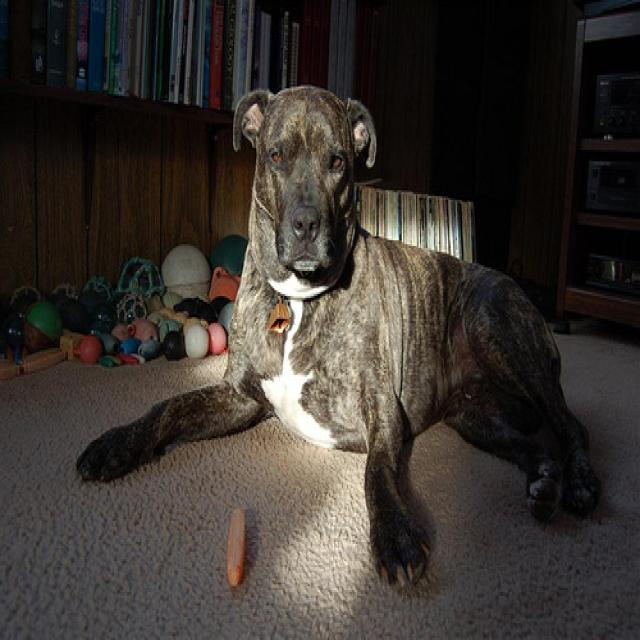dog-american_pit_bull_terrier: (67, 77, 607, 607)
